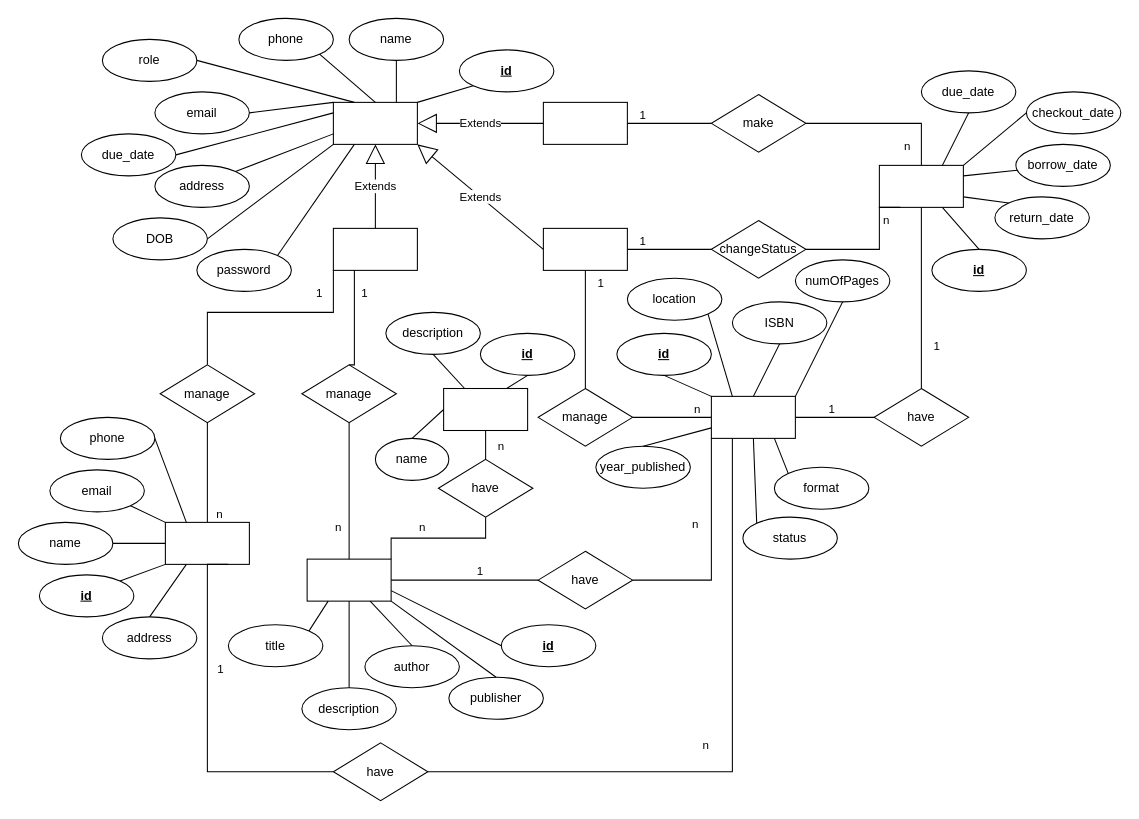
This 1139x819 diagram has some shape labels left out. The shapes that lost their labels are listed below. From the top down, each one's centre as x and y in pixels, then its label:
point (374, 122): user
point (584, 122): member
point (920, 185): request
point (374, 248): admin
point (584, 248): librarian
point (485, 408): genre
point (752, 416): bookcopy
point (206, 542): library
point (348, 579): book
